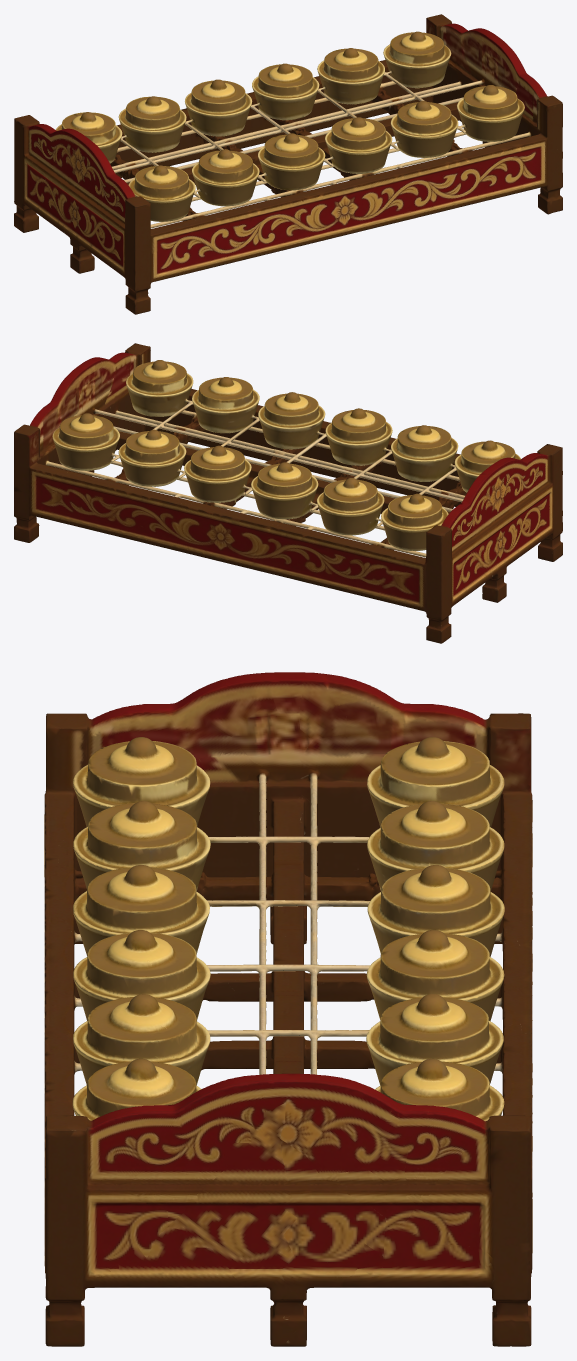
File: Bonang.glb
3 views of the same model, one above another, from view 1: azimuth 30°, elevation 25°; view 2: azimuth 150°, elevation 25°; view 3: azimuth 270°, elevation 25° (orthographic). The views are drawn at different scales.
Size of the model in its own units: 1.9 by 0.556 by 0.9378.
1 material, 1 textured.
